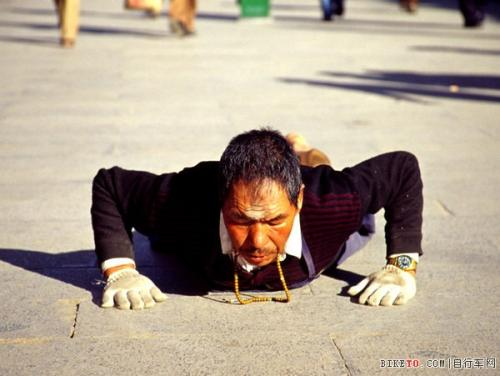fall: (83, 100, 423, 324)
